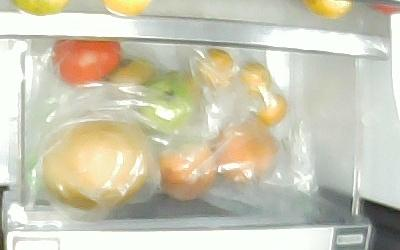peach_vinyl: (208, 115, 276, 183), (158, 144, 217, 201)
pear_vinyl: (43, 120, 149, 210)
tangerine_vinyl: (193, 47, 233, 90), (239, 62, 273, 95), (258, 94, 288, 123)
tomato_vinyl: (133, 69, 201, 129), (50, 39, 121, 85), (107, 57, 156, 94)
